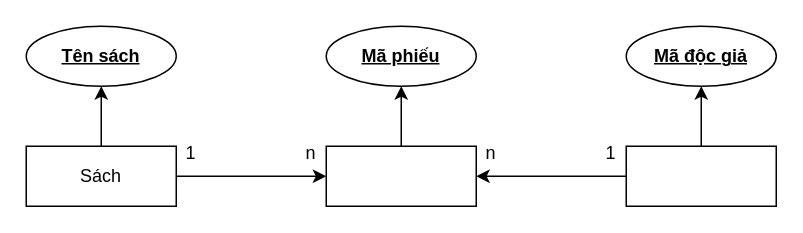
This 803x233 diagram has some shape labels left out. Here are the shapes that lost their labels. From the top down, the centre of each, then its label:
point 400,175: Phiếu mượn sách
point 700,175: Độc giả
